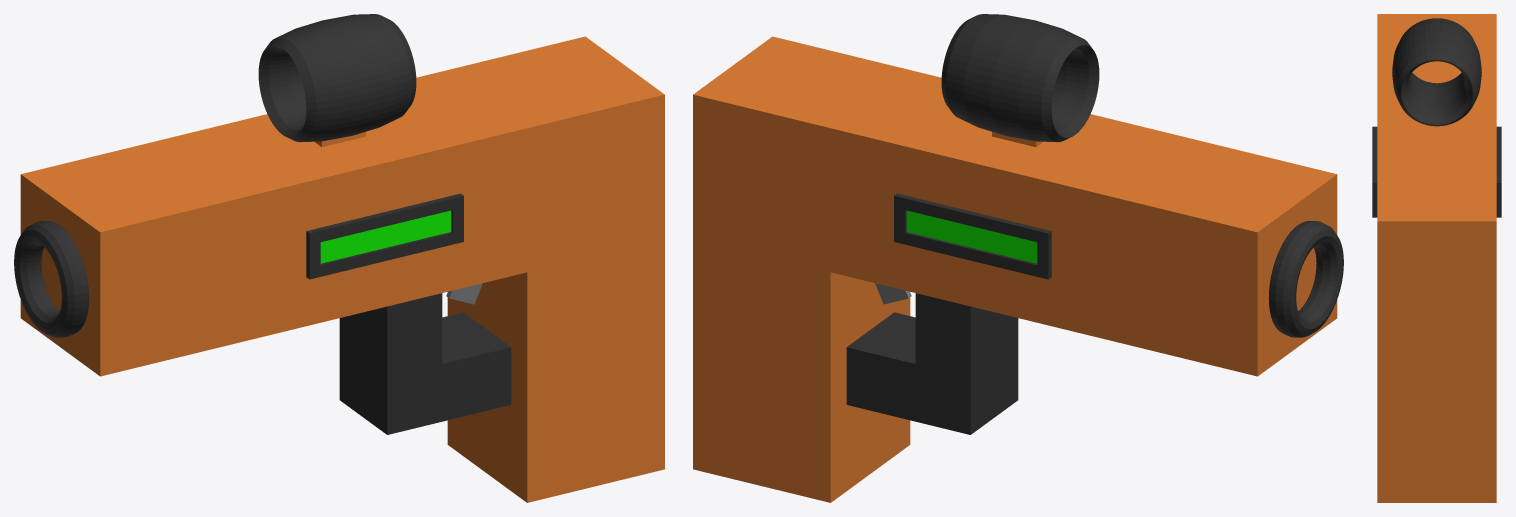
File: BallGun.glb
3 renders of one model, left to right at view 1: azimuth 30°, elevation 25°; view 2: azimuth 150°, elevation 25°; view 3: azimuth 270°, elevation 25°, orthographic. The views are drawn at different scales.
Parts seen in each view (by area): view 1: Cube.012, Cube.003, Mire, ForwardPart, CadrantLife, LifeTime; view 2: Cube.012, Cube.003, Mire, ForwardPart, CadrantLife, LifeTime; view 3: Cube.012, Mire, CadrantLife.
Boxes of the visible parts, x1=… form: Cube.012: x1=20, y1=36, x2=664, y2=502; Cube.003: x1=339, y1=293, x2=511, y2=434; Mire: x1=258, y1=14, x2=416, y2=142; ForwardPart: x1=14, y1=221, x2=89, y2=337; CadrantLife: x1=306, y1=193, x2=463, y2=279; LifeTime: x1=320, y1=210, x2=451, y2=263; Cube.012: x1=693, y1=36, x2=1337, y2=502; Cube.003: x1=846, y1=293, x2=1018, y2=434; Mire: x1=941, y1=14, x2=1099, y2=142; ForwardPart: x1=1268, y1=221, x2=1343, y2=337; CadrantLife: x1=894, y1=193, x2=1051, y2=279; LifeTime: x1=906, y1=210, x2=1037, y2=263; Cube.012: x1=1377, y1=14, x2=1496, y2=502; Mire: x1=1392, y1=18, x2=1481, y2=126; CadrantLife: x1=1372, y1=126, x2=1501, y2=217.
Bounding box in the file's own units: 2.13 × 1.69 × 0.54.
